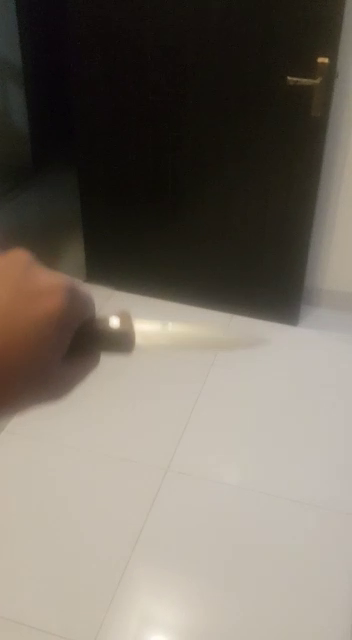knife: (15, 235, 329, 461)
